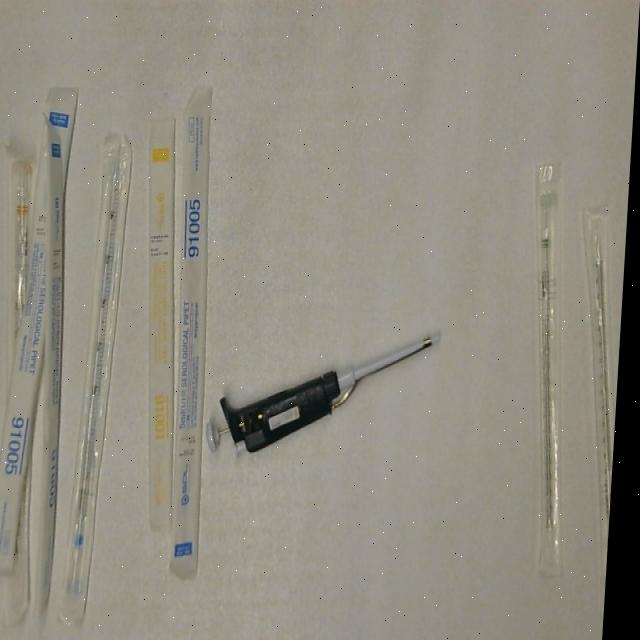Serelogical Pipet 1 mL: (127, 118, 199, 541)
Serelogical Pipet 10 mL: (1, 154, 43, 398)
Serelogical Pipet 2 mL: (515, 162, 590, 579)
Serelogical Pipet 5 mL: (0, 82, 83, 580), (62, 131, 139, 630), (160, 85, 230, 579), (21, 112, 85, 615)
Single Channel Pipettor: (208, 330, 451, 458)
